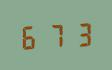seven: (44, 20, 68, 49)
six: (18, 21, 42, 50)
three: (69, 19, 93, 48)
